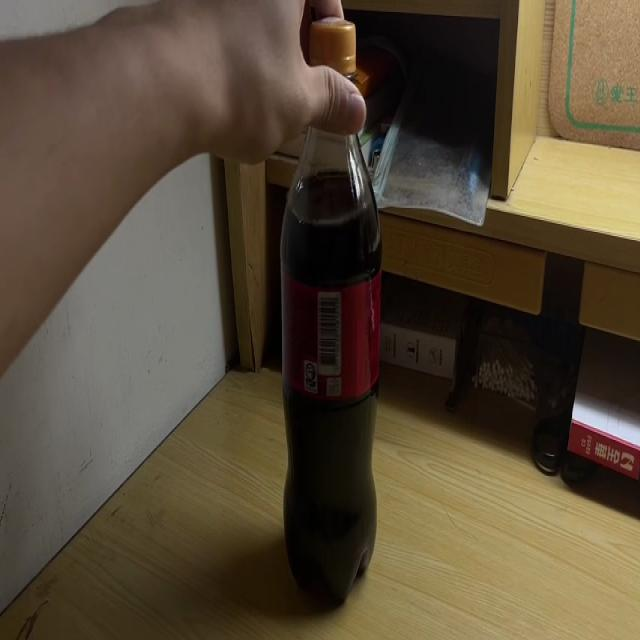Coca-Cola: (282, 16, 379, 608)
